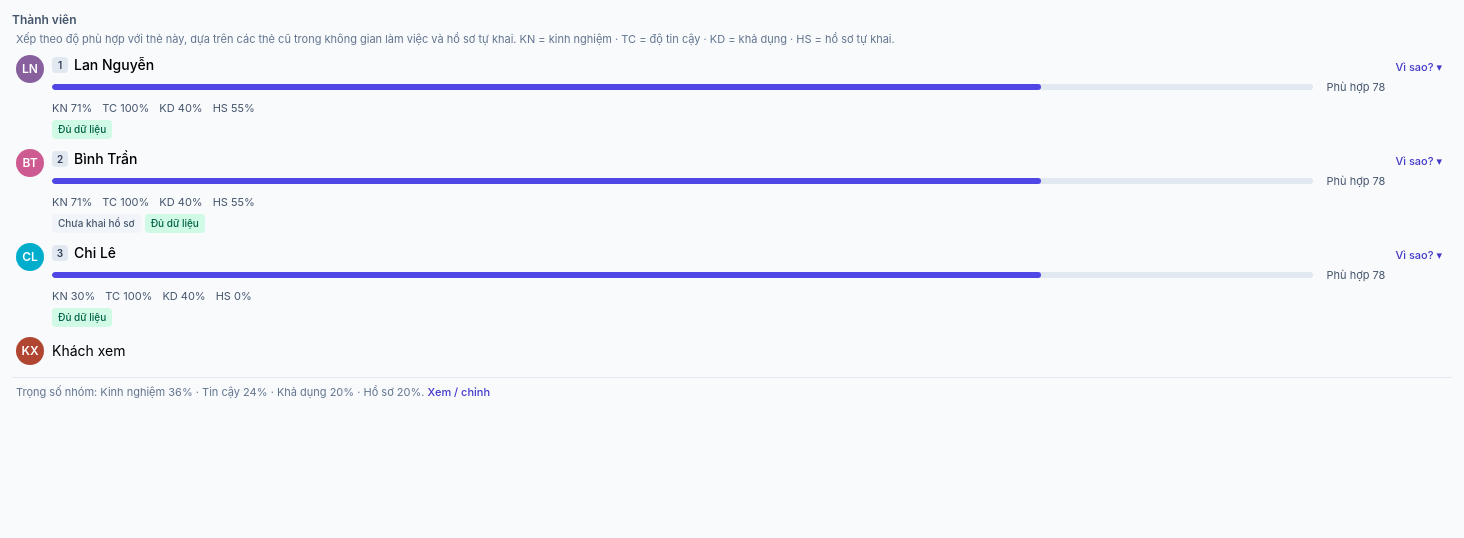
Test: AssignSuggestPanel - hiển thị gợi ý › "Vì sao?" phần HỒ SƠ: mục khai khớp (loại, tên, độ giống; đoạn CV không có chữ), chưa khai / không khớp nói rõ; "Tải CV" chỉ khi máy chủ cho
This screenshot has width=1464, height=538.
Expected: the list item with test id "assign-row-u1" is shown, [12, 51, 1452, 143]
Click the button with aria-label "Vì sao gợi ý Lan Nguyễn" at {"x": 1419, "y": 67}, box [1389, 57, 1448, 78]
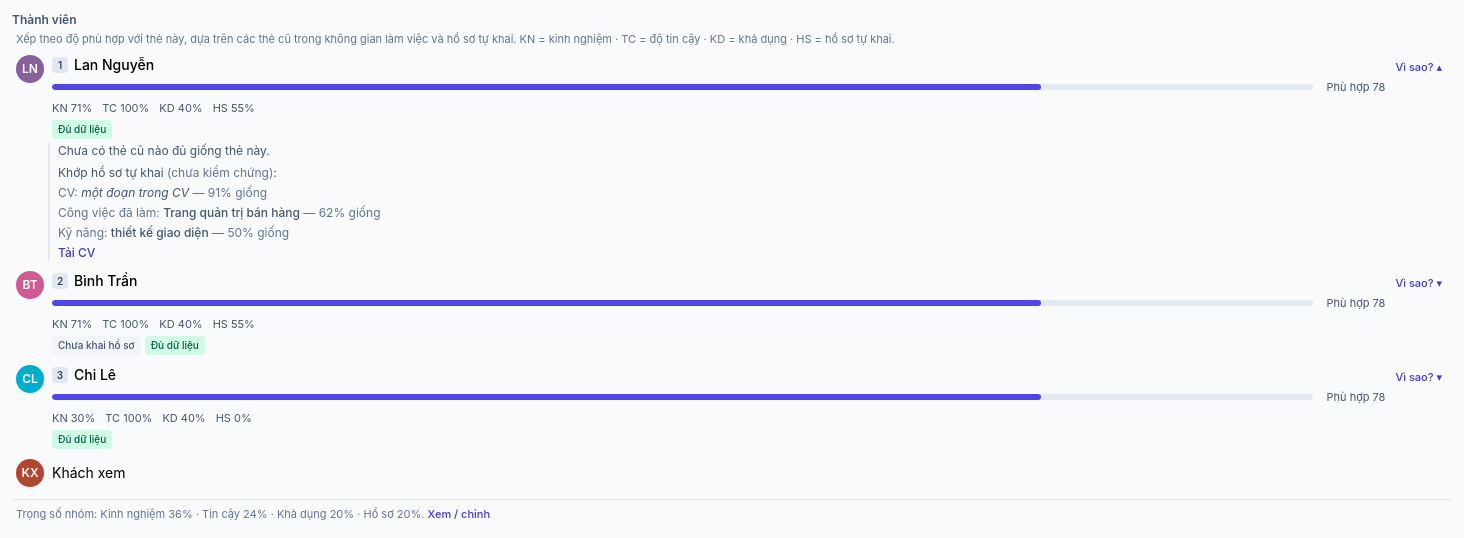
Now the text "Khớp hồ sơ tự khai (chưa kiểm chứng):" is shown, box [58, 165, 277, 180]
Now the text "(chưa kiểm chứng)" is shown, box [167, 165, 273, 180]
Now the list items read "CV: một đoạn trong CV — 91% giống", "Công việc đã làm: Trang quản trị bán hàng — 62% giống", "Kỹ năng: thiết kế giao diện — 50% giống", in this order, box [58, 185, 267, 200]; [58, 205, 380, 220]; [58, 225, 289, 240]
Click the button with aria-label "Vì sao gợi ý Bình Trần" at {"x": 1419, "y": 283}, box [1389, 273, 1448, 294]
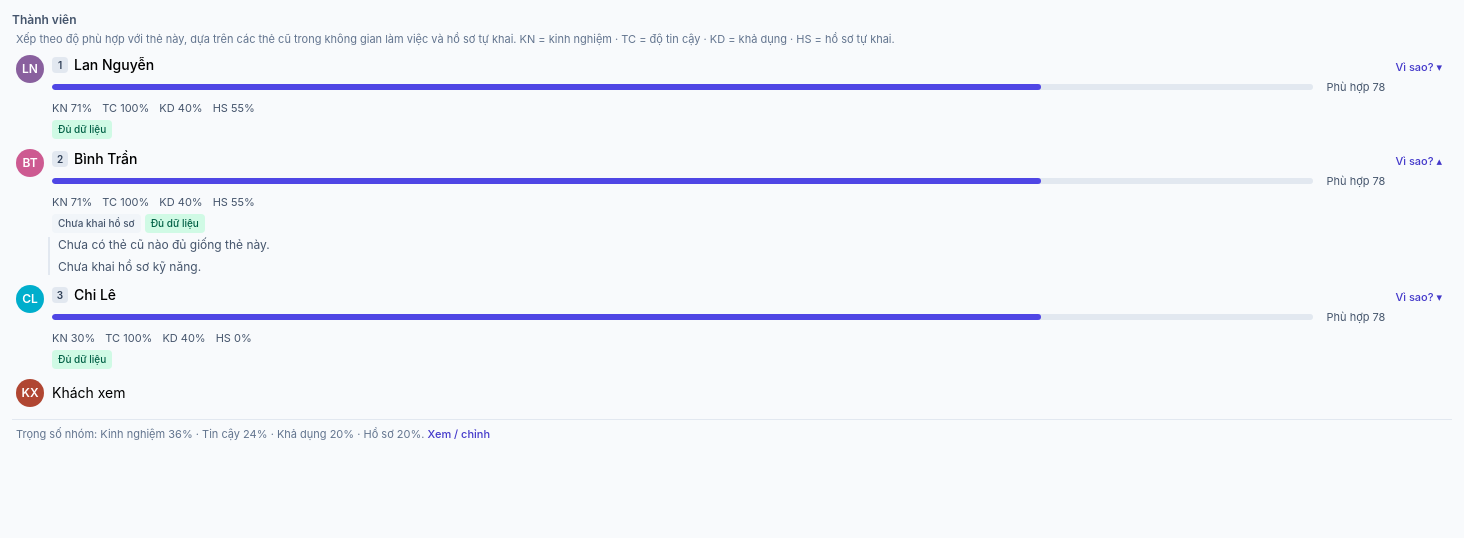
Now the text "Chưa khai hồ sơ kỹ năng." is shown, box [58, 259, 201, 274]
Now the link "Tải CV" is gone
Click the button with aria-label "Vì sao gợi ý Chi Lê" at {"x": 1419, "y": 297}, box [1389, 287, 1448, 308]
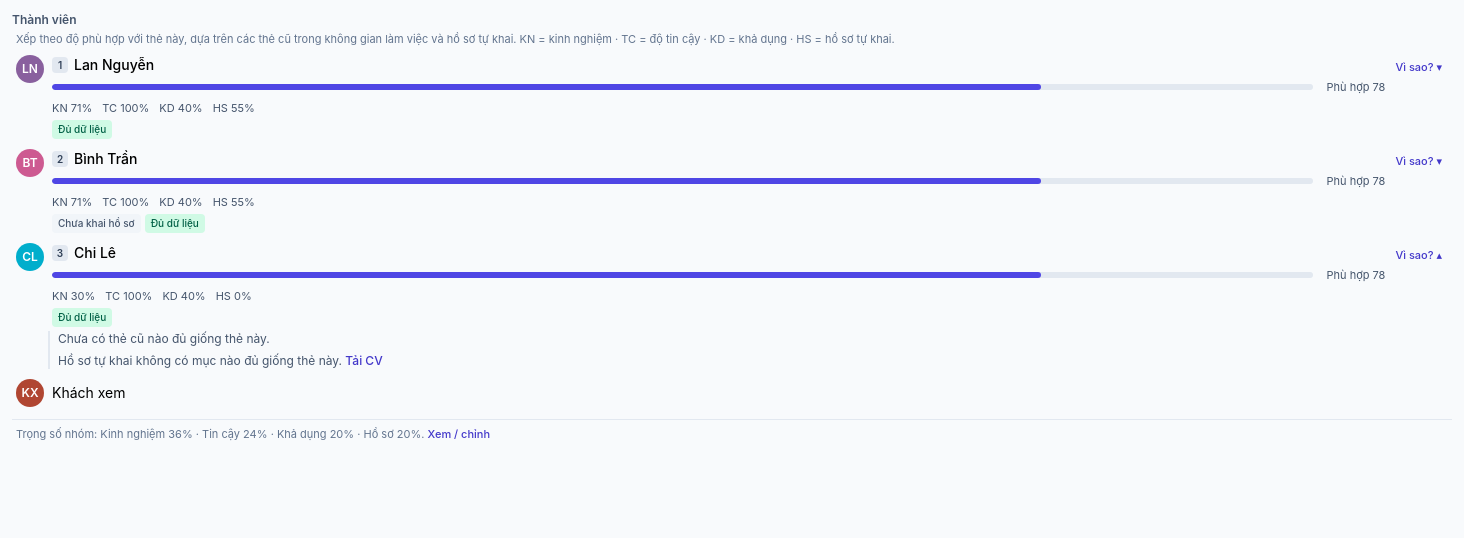
Now the text "Hồ sơ tự khai không có mục nào đủ giống thẻ này. Tải CV" is shown, box [58, 353, 383, 368]
